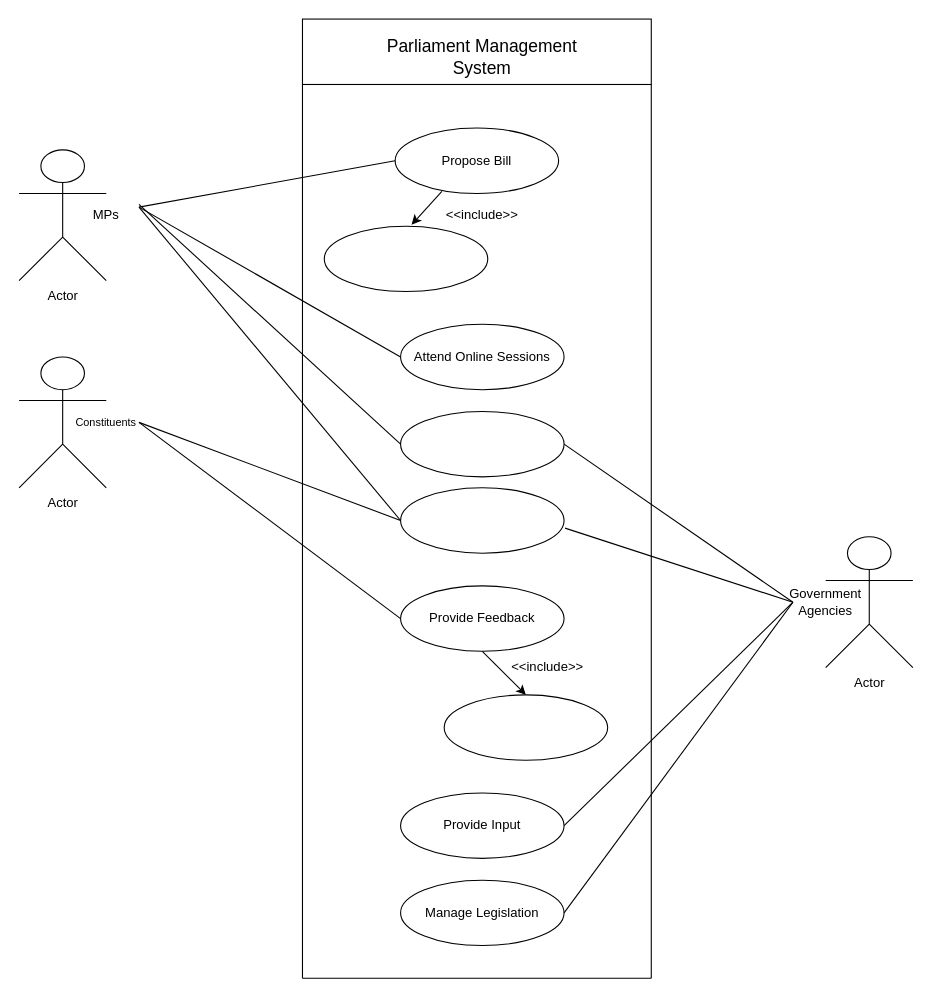
The diagram is 932 pixels wide and 998 high, and some of its shapes have lost their labels. Here are the shapes that lost their labels. From the top down, the box of each, then its label:
(323, 225, 488, 292): Vote on Bill
(399, 410, 564, 477): View Constituency
(399, 487, 564, 553): View Bills
(443, 694, 608, 760): Comment on proposed bills
